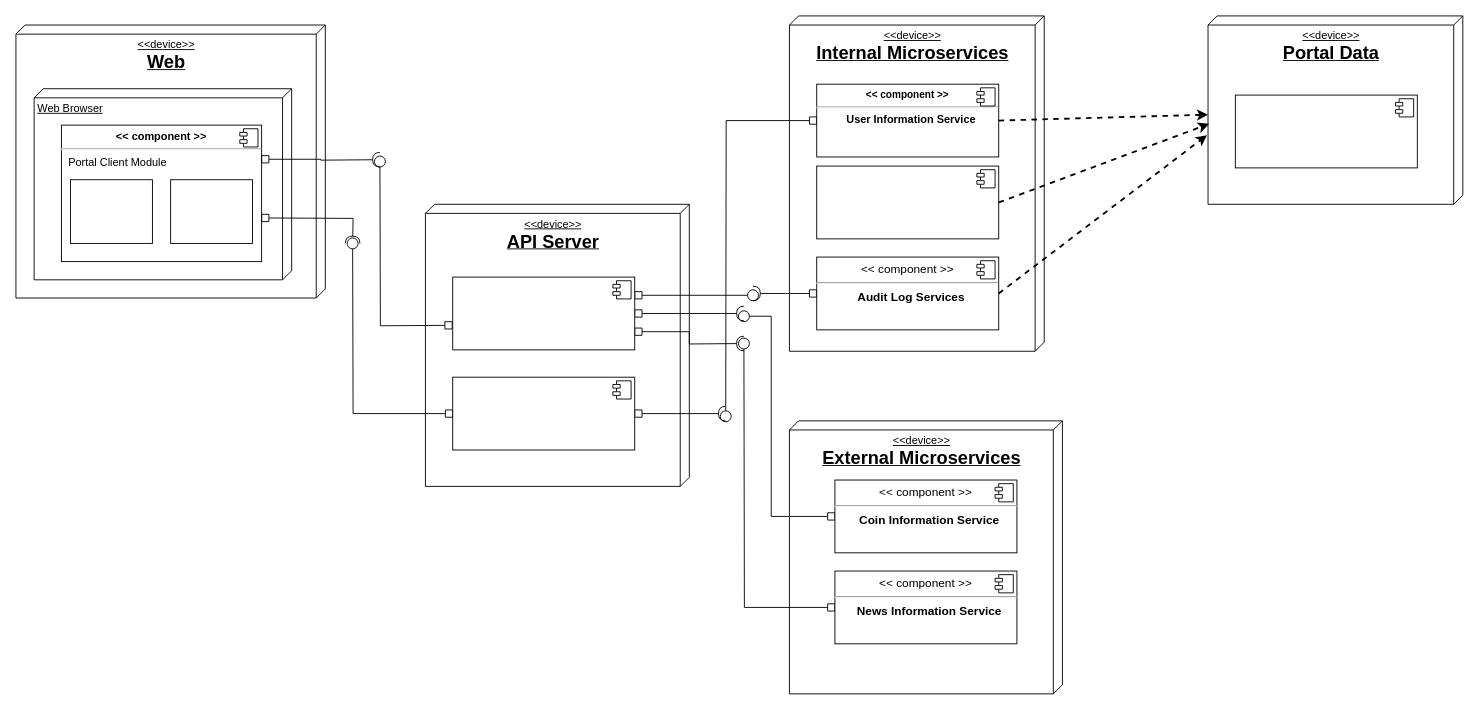
Image size: 1479x710. Some labels were removed from this diagram. The centre of each missing label's shape, as x and y in pixels:
<< artifact >> Scripts: point (211, 211)
<< artifact >> Styles: point (111, 211)
<< component >> API Gateway Service: point (543, 313)
<< component >> Authentication: point (543, 413)
<< component >> Notifications Service: point (907, 202)
<< component >> Portal Dabase: point (1325, 131)
